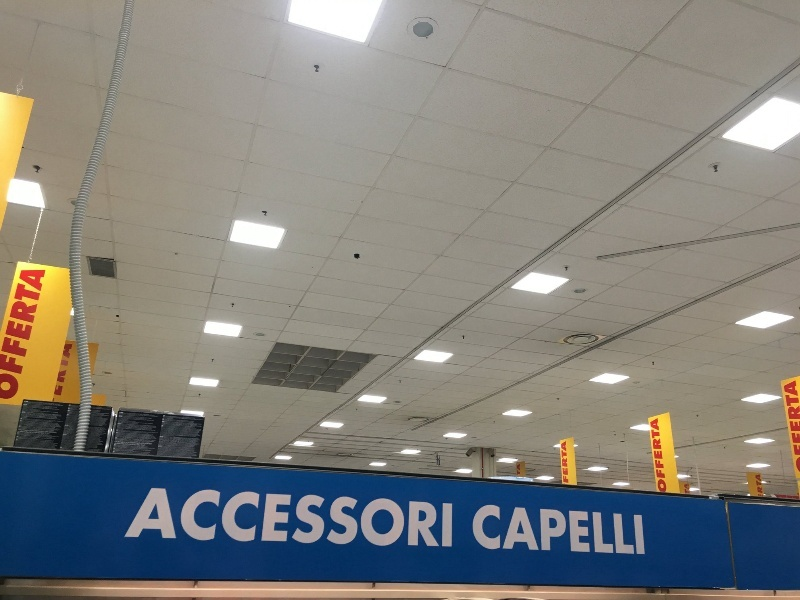text: (17, 264, 32, 402), (33, 264, 48, 402), (161, 483, 176, 554), (177, 483, 192, 554), (193, 483, 208, 554), (209, 483, 224, 554), (225, 483, 240, 554), (241, 483, 256, 554), (257, 483, 272, 554), (273, 483, 288, 554), (289, 483, 304, 554), (305, 483, 320, 554), (321, 483, 336, 554), (337, 483, 352, 554), (353, 483, 368, 554), (369, 483, 384, 554), (385, 483, 400, 554), (401, 483, 416, 554), (417, 483, 432, 554), (433, 483, 448, 554), (657, 417, 670, 495), (147, 483, 160, 554), (481, 499, 496, 560), (497, 499, 512, 560), (513, 499, 528, 560), (529, 499, 544, 560), (545, 499, 560, 560), (561, 499, 576, 560), (577, 499, 592, 560), (593, 499, 608, 560), (609, 499, 624, 560), (625, 499, 640, 560), (469, 499, 480, 560), (648, 417, 656, 495), (641, 499, 651, 560), (449, 483, 456, 554), (561, 441, 572, 486), (557, 441, 560, 486)
